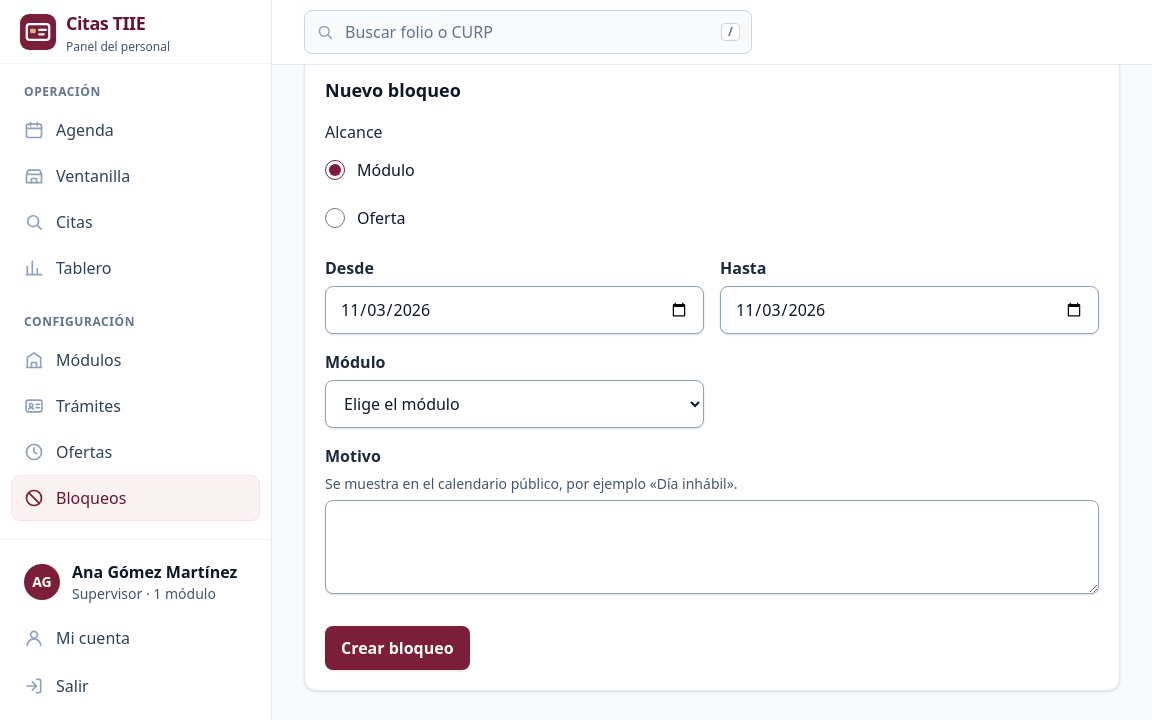
Test case: Bloqueos › crea un bloqueo de módulo, muestra las citas afectadas y las cancela con aviso
(page scrolled)
Expected: the radio button labelled "Módulo" is checked, x1=325 y1=160 x2=345 y2=180
Select "Módulo Culiacán Centro" in the dropdown labelled "Módulo". click: (514, 404)
box: x1=325 y1=380 x2=704 y2=428
Type "Fumigación" into the text box labelled "Motivo". click: (712, 547)
box: x1=325 y1=500 x2=1099 y2=594
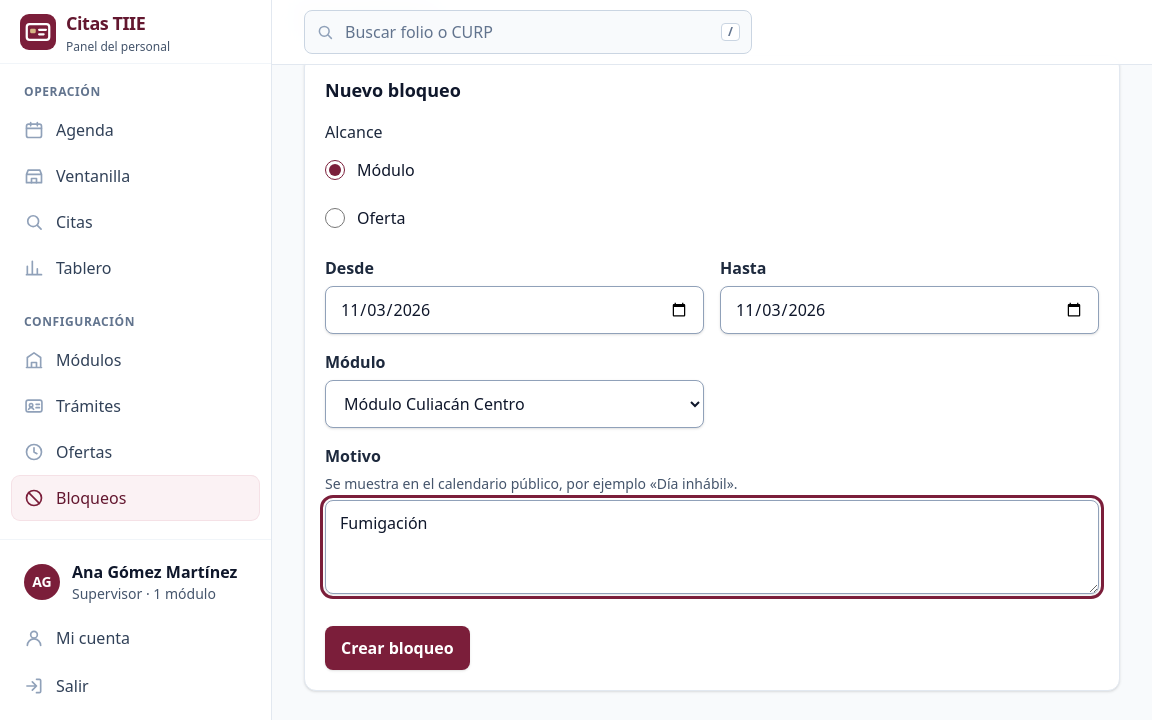
Click the button "Crear bloqueo". click: (397, 648)
box: x1=325 y1=626 x2=470 y2=670
(page scrolled)
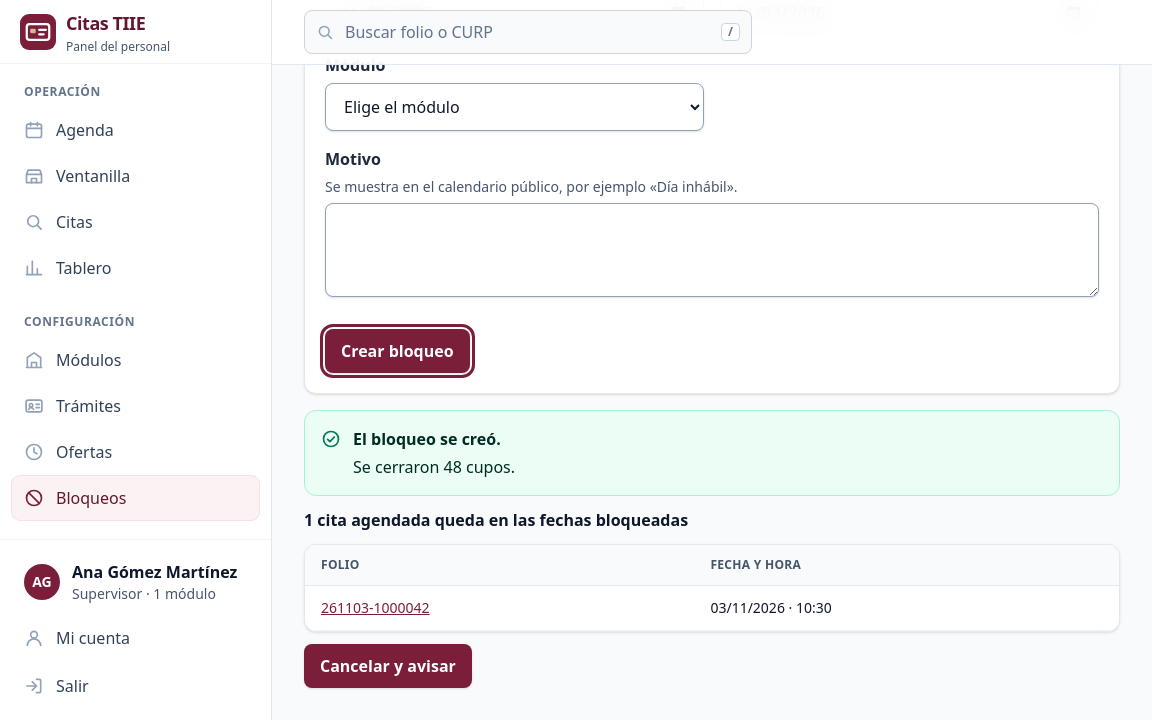
Result: the text "Se cerraron 48 cupos." is shown at x1=353 y1=456 x2=515 y2=478
Result: the heading "1 cita agendada queda en las fechas bloqueadas" is shown at x1=304 y1=509 x2=688 y2=531
Click the button "Cancelar y avisar". click: (388, 666)
box: x1=304 y1=644 x2=472 y2=688
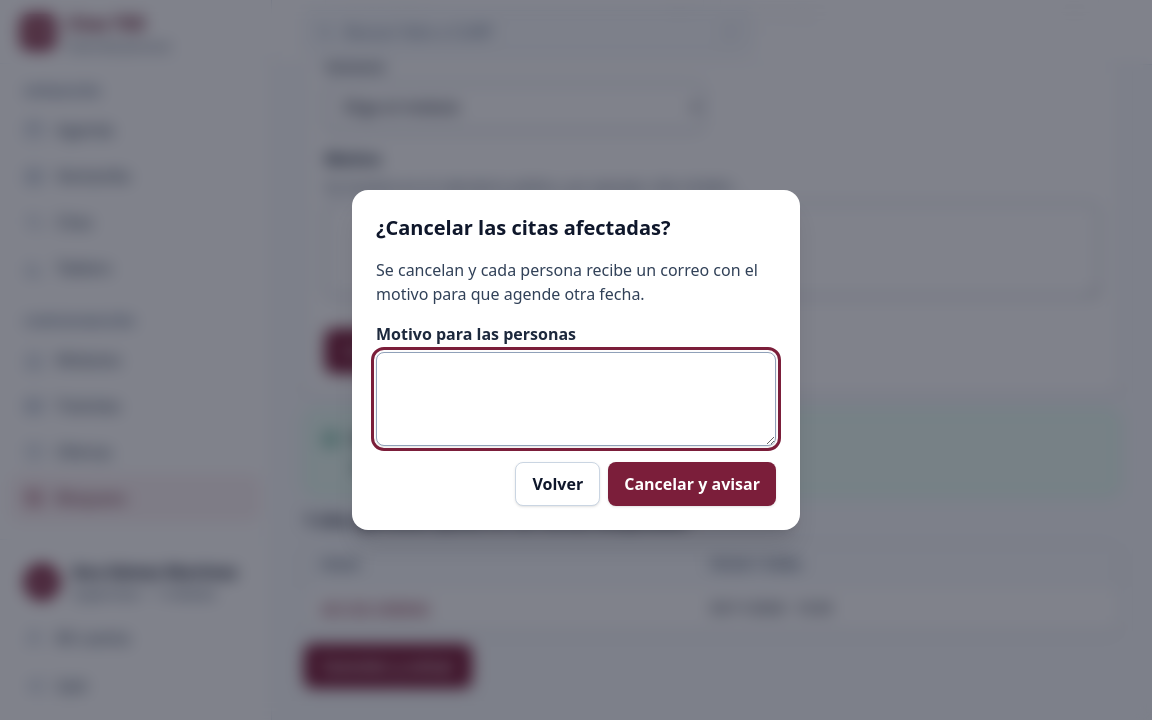
Click the button "Cancelar y avisar" below "Motivo para las personas". click: (692, 484)
box: x1=608 y1=462 x2=776 y2=506
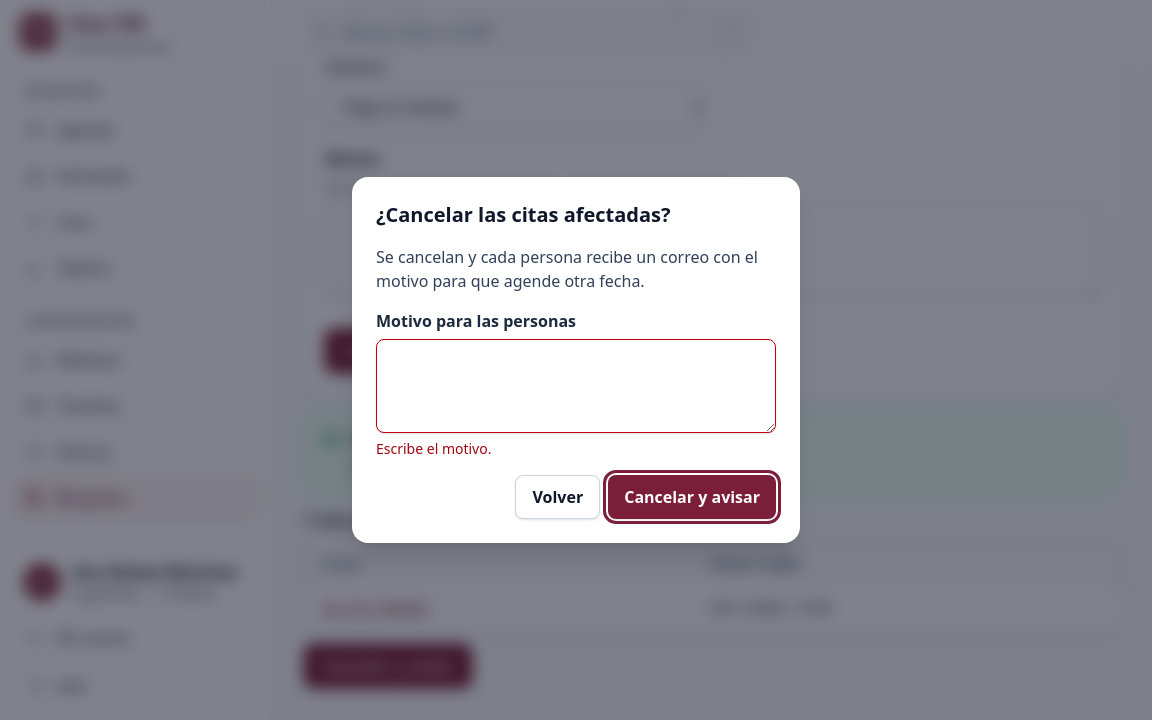
Result: the text "Escribe el motivo." is shown at x1=376 y1=439 x2=492 y2=458
Type "El módulo cierra por fumigación" into the text box labelled "Motivo para las personas". click: (576, 386)
box: x1=376 y1=339 x2=776 y2=433
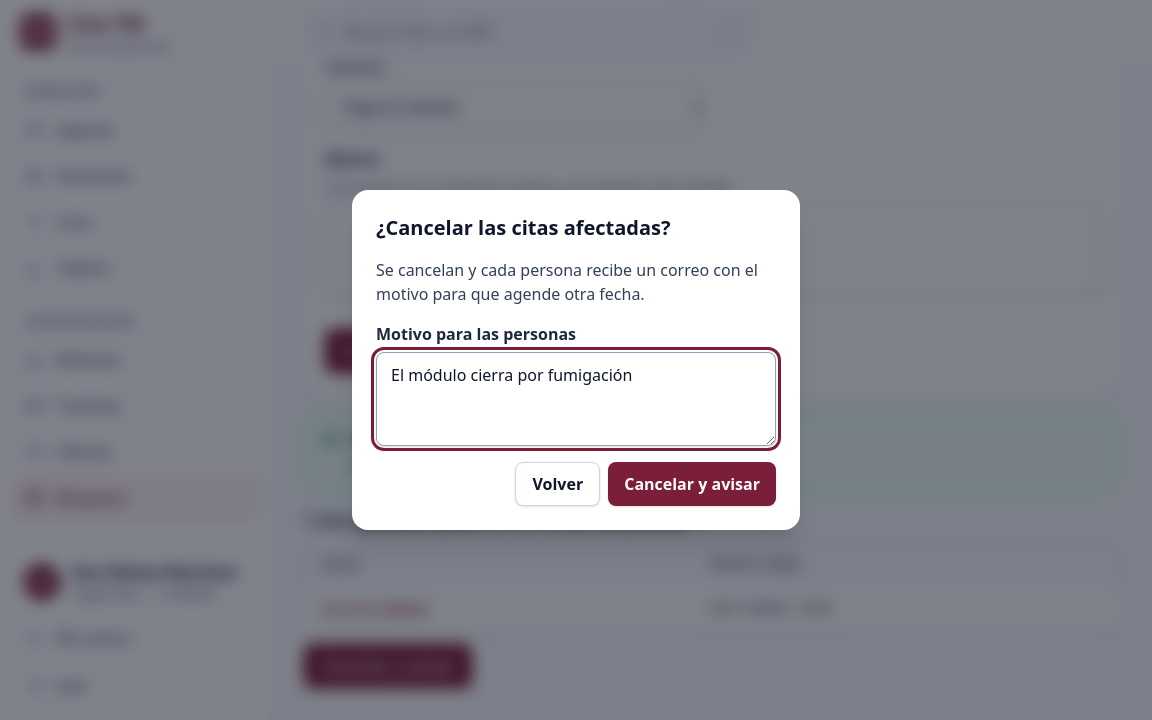
Click the button "Cancelar y avisar" below "Motivo para las personas". click: (692, 484)
box: x1=608 y1=462 x2=776 y2=506
(page scrolled)
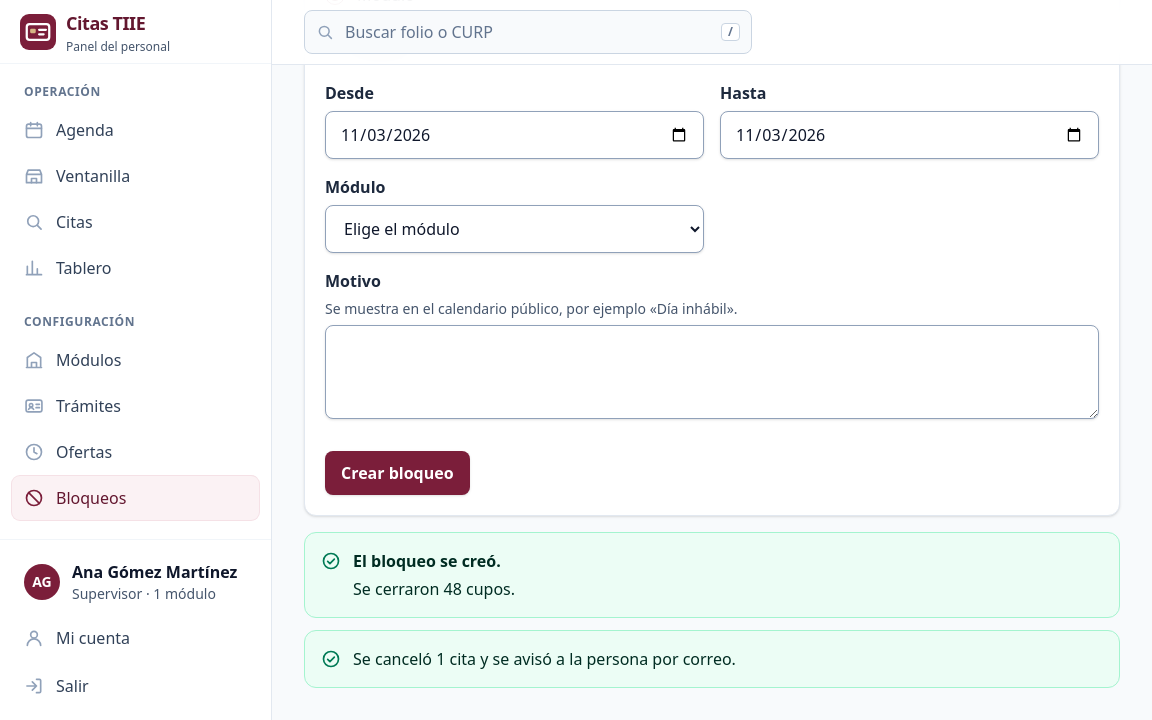
Result: the text "Se canceló 1 cita y se avisó a la persona por correo." is shown at x1=353 y1=648 x2=736 y2=670
Result: the dialog is gone
